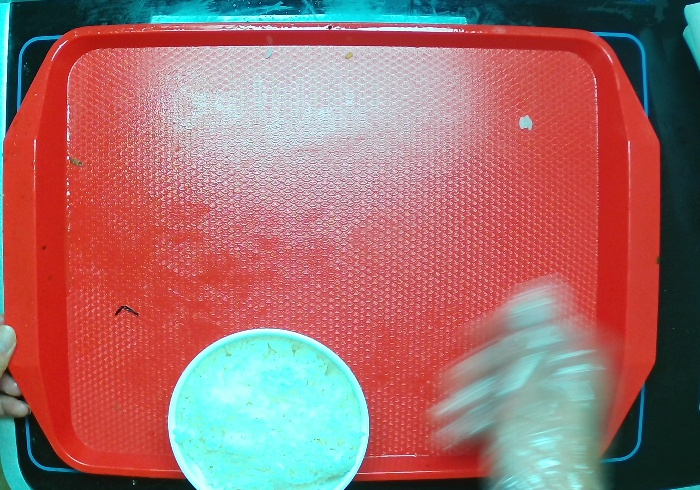YKMZ-Fan_Wan: (166, 326, 373, 490)
